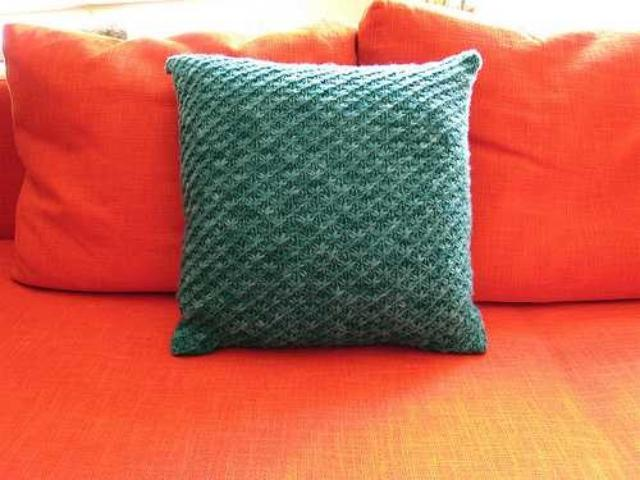pillow: (165, 48, 488, 356), (1, 21, 356, 294), (356, 0, 638, 304)
